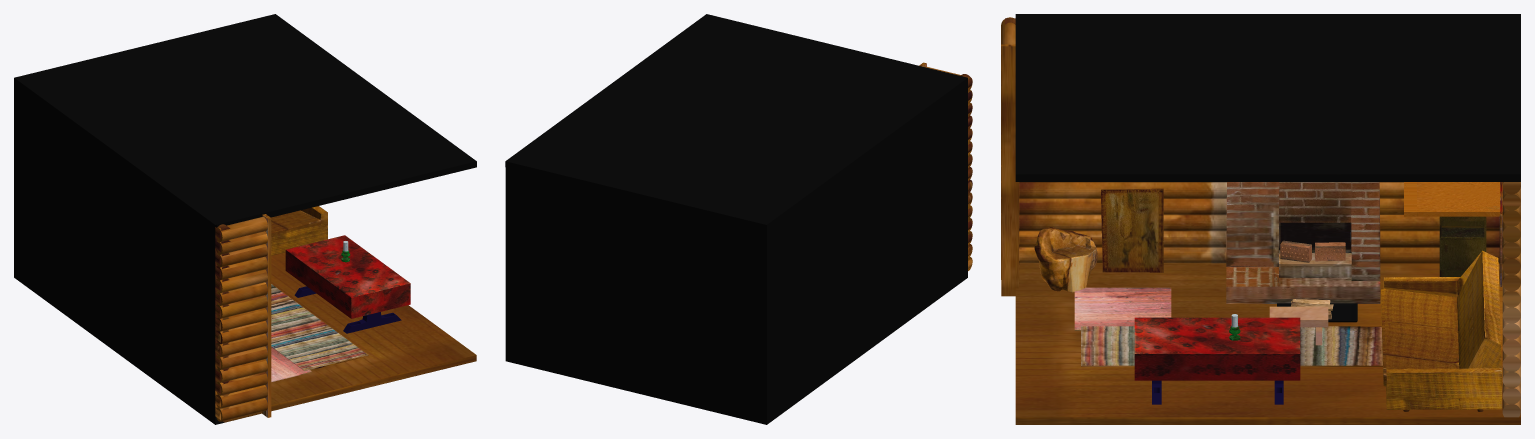
Rendered from log_cabin_interior.glb.
3 views of the same model, side by side, from view 1: azimuth 30°, elevation 25°; view 2: azimuth 150°, elevation 25°; view 3: azimuth 270°, elevation 25° (orthographic). The views are drawn at different scales.
Visible parts, largest first — view 1: Cube, Floor, Seinaparru ovi vasen, Poyta, Pitka Matto, Sohva, Katto, Seinaparrut vasen seina, Ovilauta, Poydanjalusta, Pieni matto; view 2: Cube, Seinaparrut vasen seina, Seinaparru ovi vasen; view 3: Cube, Floor, Takka, Sohva, Seinaparrut vasen seina, Poyta, Lipasto, Pitka Matto, Taulu, Seinaparru taka, Seinaparrut vasen seina.001, Ovilauta (+9 smaller).
Part boxes in pixels (left/top/right/bottom): Cube: left=14, top=14, right=475, bottom=424; Floor: left=223, top=252, right=476, bottom=422; Seinaparru ovi vasen: left=216, top=217, right=267, bottom=421; Poyta: left=285, top=235, right=410, bottom=318; Pitka Matto: left=271, top=284, right=368, bottom=370; Sohva: left=271, top=206, right=327, bottom=255; Katto: left=215, top=14, right=476, bottom=227; Seinaparrut vasen seina: left=215, top=224, right=230, bottom=421; Ovilauta: left=262, top=214, right=271, bottom=417; Poydanjalusta: left=294, top=286, right=401, bottom=333; Pieni matto: left=271, top=347, right=311, bottom=381; Cube: left=505, top=14, right=967, bottom=424; Seinaparrut vasen seina: left=961, top=74, right=972, bottom=268; Seinaparru ovi vasen: left=924, top=66, right=972, bottom=270; Cube: left=1015, top=14, right=1520, bottom=173; Floor: left=1015, top=263, right=1520, bottom=424; Takka: left=1226, top=182, right=1380, bottom=303; Sohva: left=1381, top=250, right=1501, bottom=411; Seinaparrut vasen seina: left=1005, top=18, right=1226, bottom=263; Poyta: left=1134, top=317, right=1300, bottom=380; Lipasto: left=1404, top=182, right=1502, bottom=276; Pitka Matto: left=1081, top=326, right=1382, bottom=366; Taulu: left=1101, top=188, right=1163, bottom=272; Seinaparru taka: left=1502, top=182, right=1520, bottom=417; Seinaparrut vasen seina.001: left=1379, top=182, right=1502, bottom=263; Ovilauta: left=1001, top=44, right=1018, bottom=296.
Bounding box in the file's own units: 3.11 × 2.28 × 4.27.
34 materials, 34 textured.
